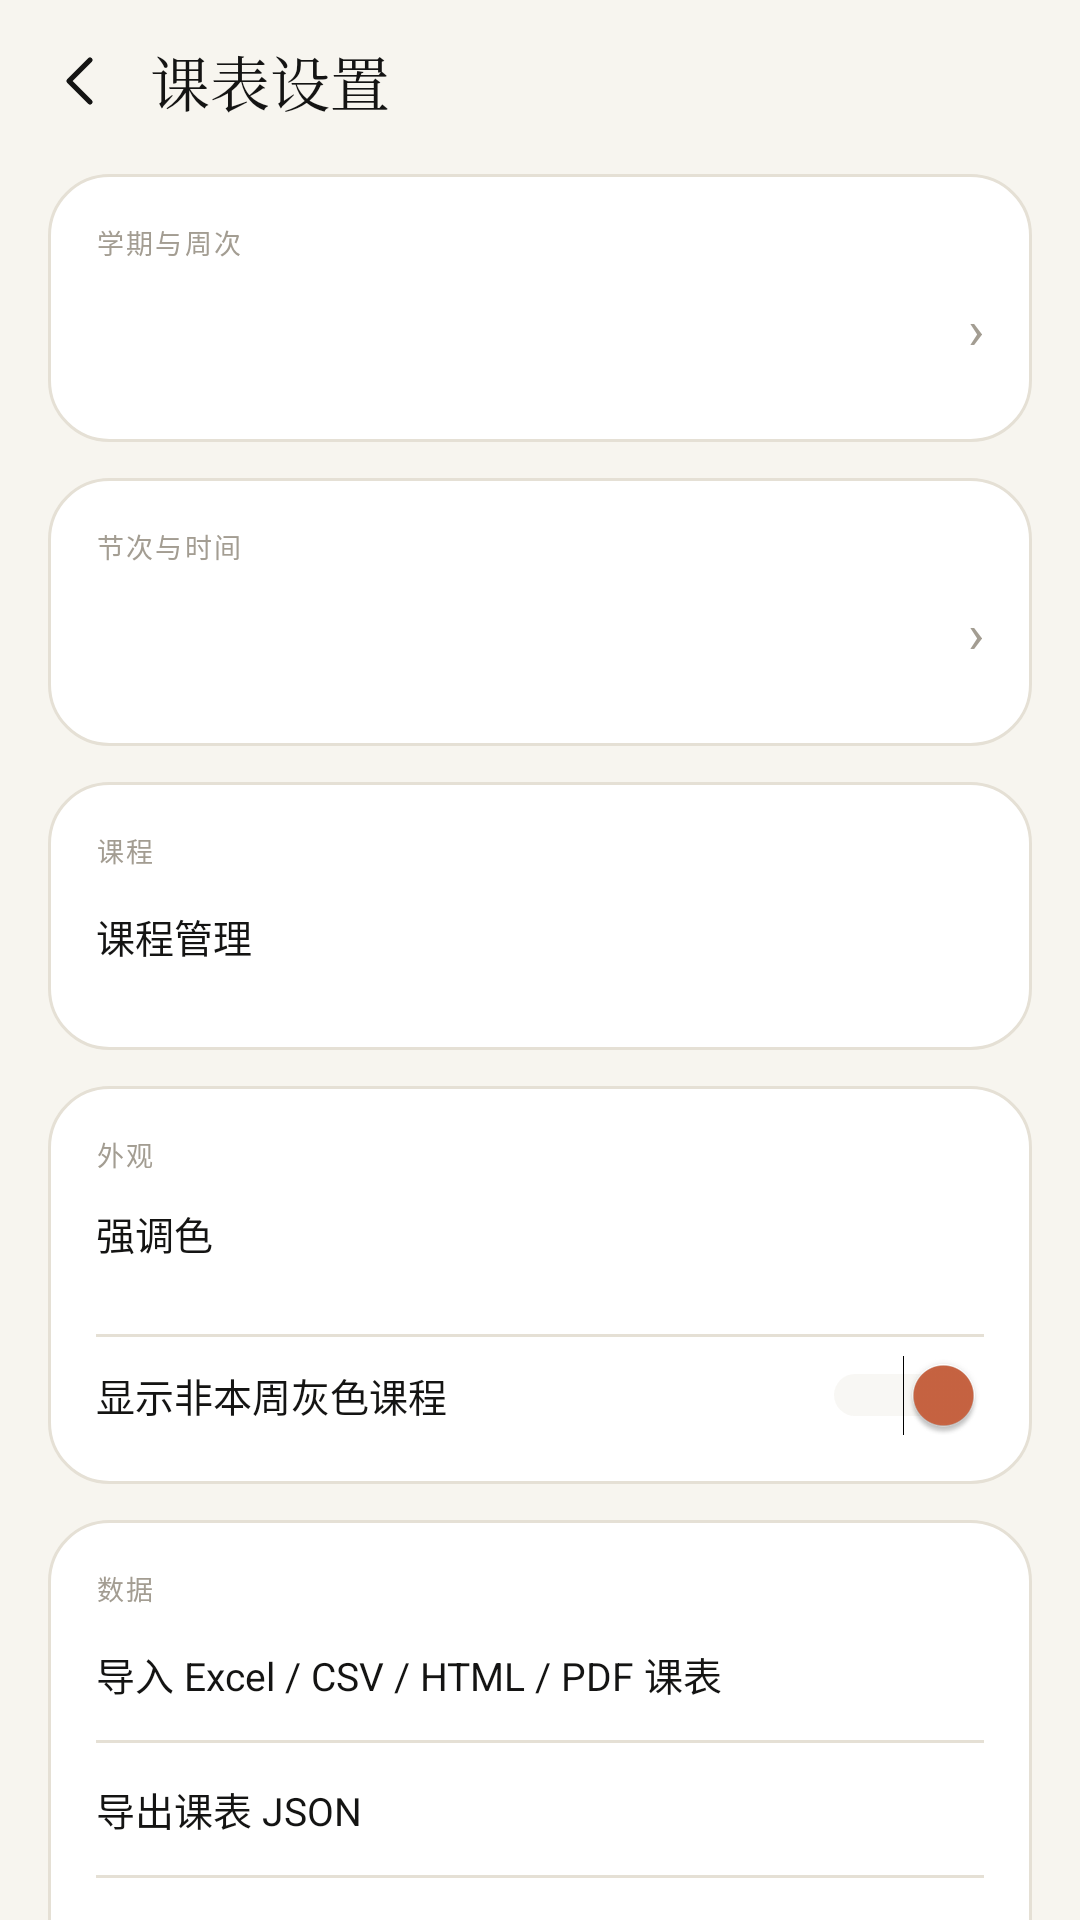

Where to tap for icons on this 1080 × 1920 app screen, as [x,y]:
返回: [79,81]
